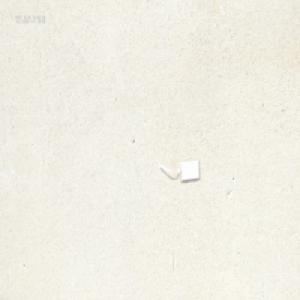LuggageTag: (158, 157, 199, 183)
